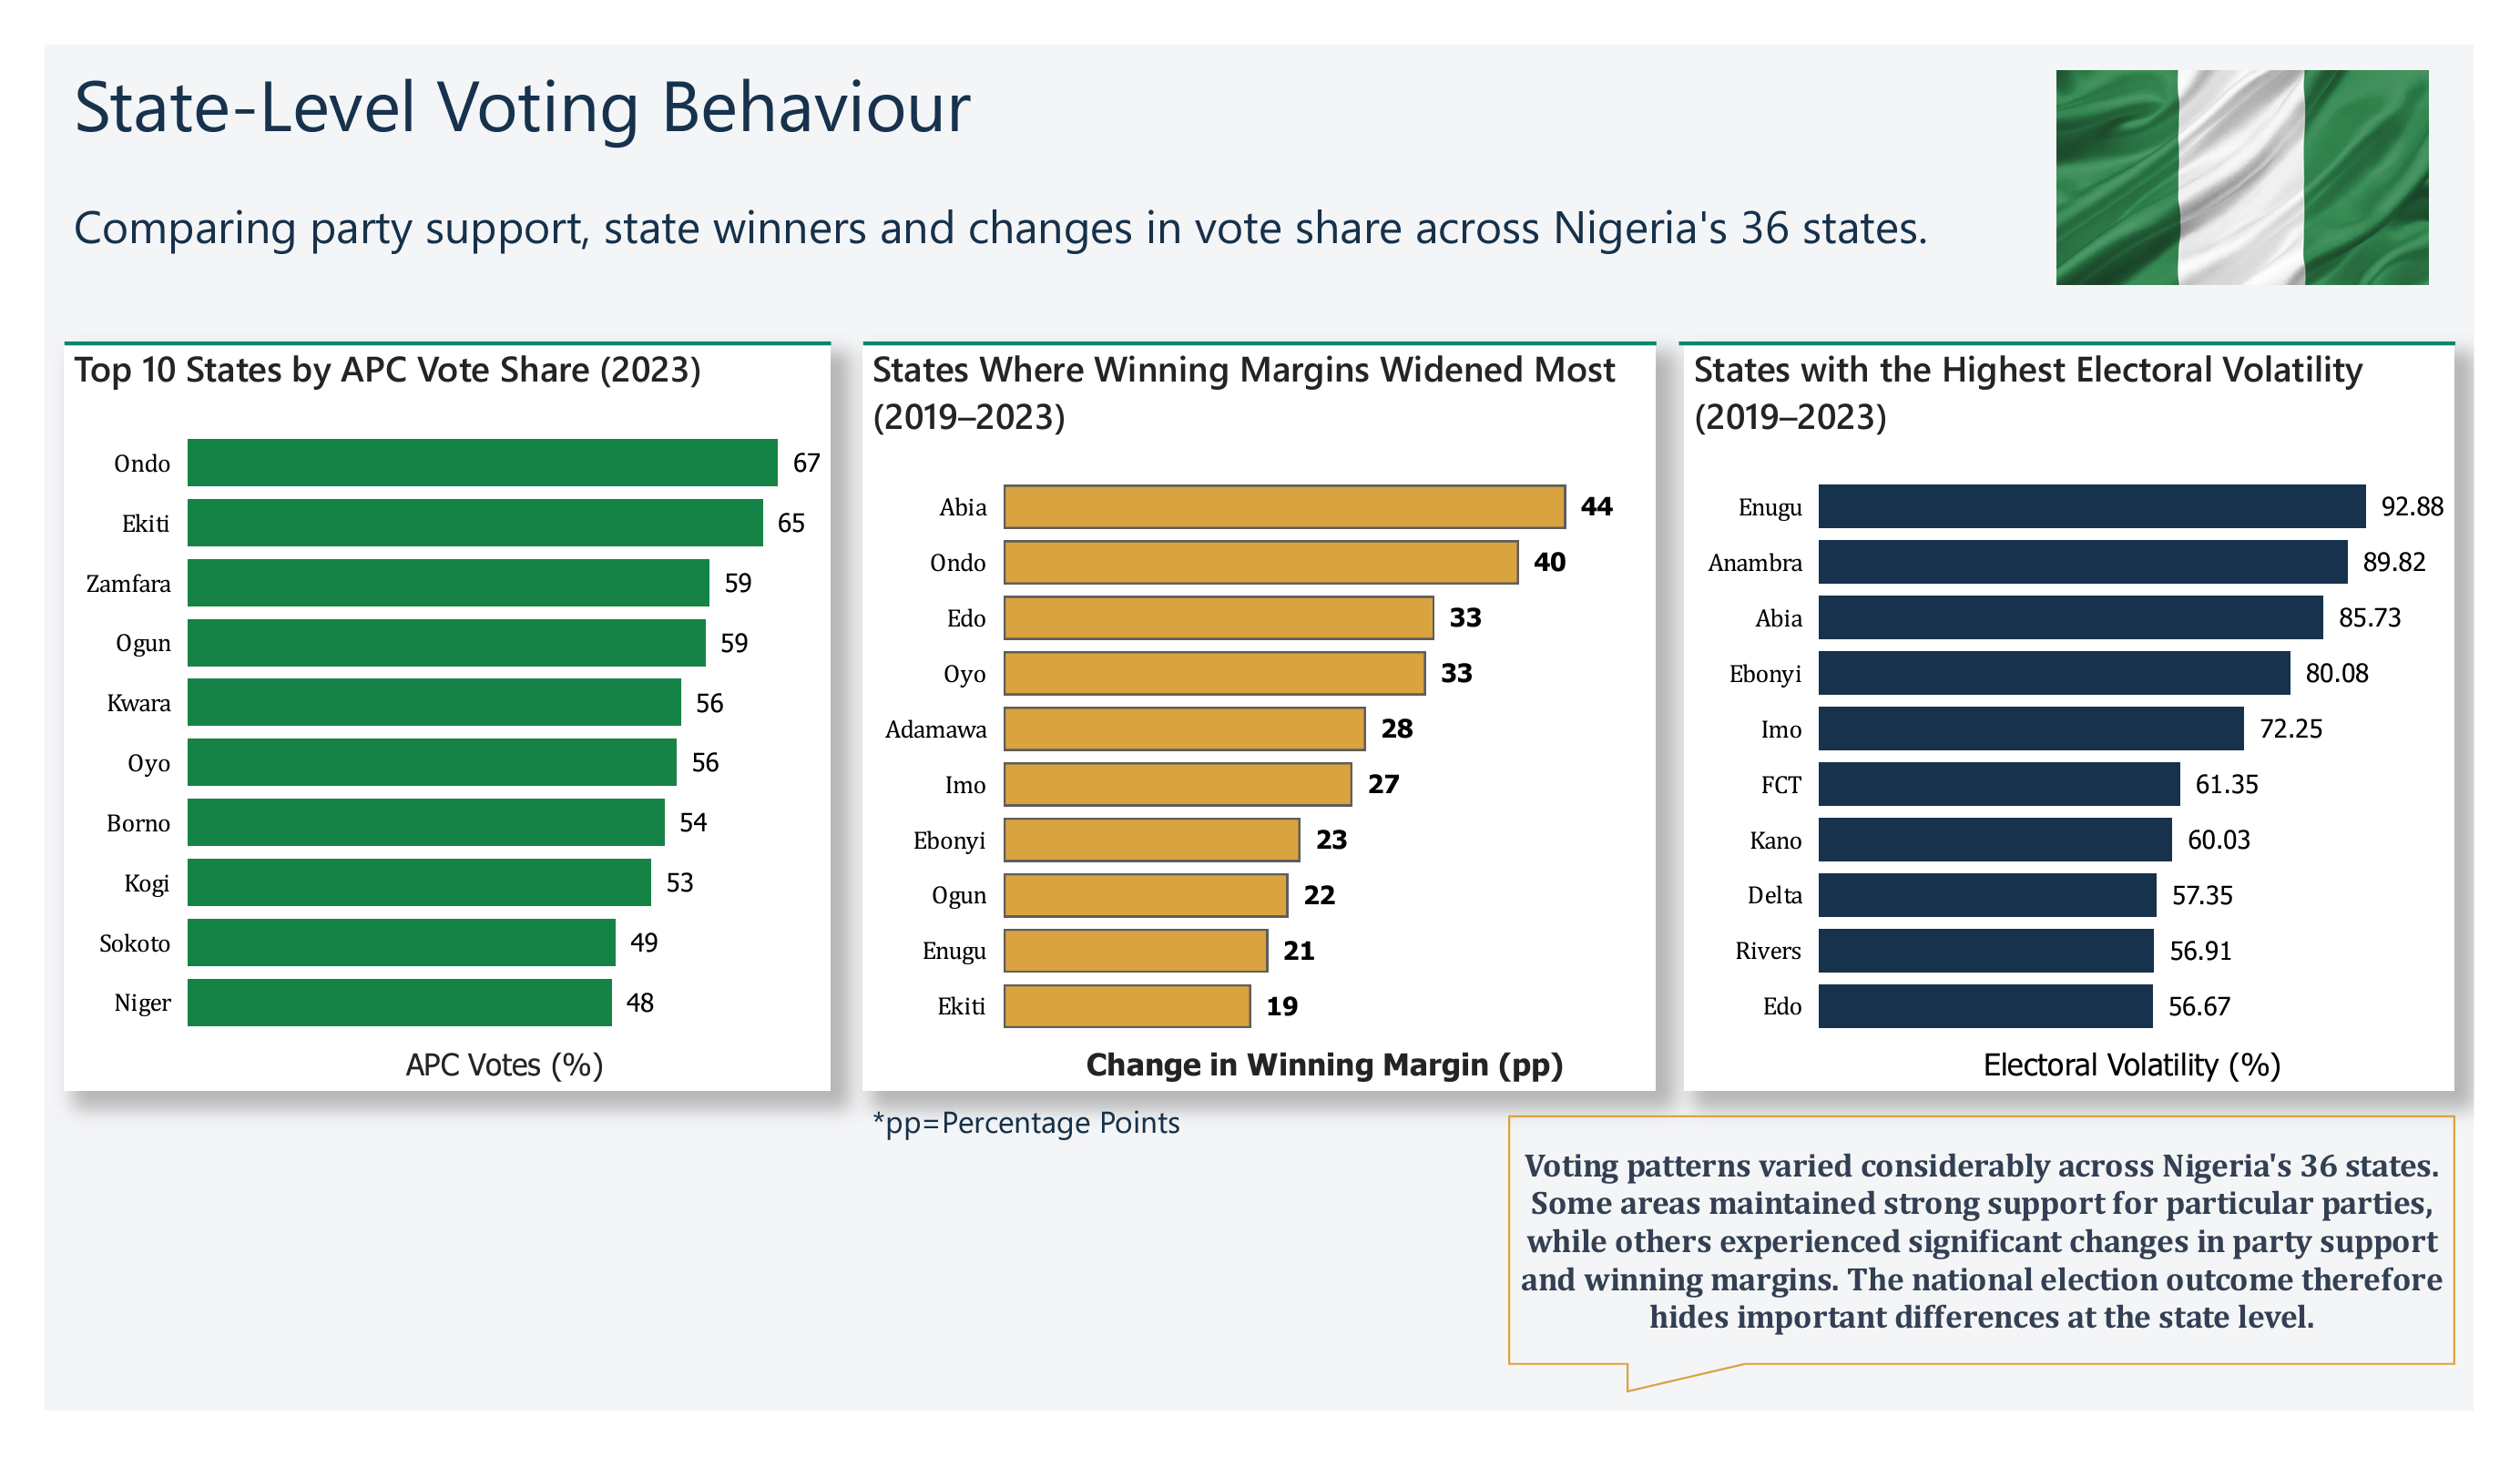

What the dashboard file says about the page in this screenshot:
{"tool":"powerbi","page":{"name":"STATE-LEVEL VOTING BEHAVIOUR","canvas":[1280,720],"ordinal":2},"visuals":[{"type":"textbox","box":[10.3,0,487.8,73.5],"z":0},{"type":"textbox","box":[10.3,73.5,1000.7,52.9],"z":1000},{"type":"image","box":[1046.2,13.2,223.3,113.1],"z":2000},{"type":"clusteredBarChart","title":"Top 10 States by APC Vote Share (2023)","fields":{"Category":["dim_state.state"],"Y":["Sum(fact_state_election.apc_vote_share)"]},"box":[10.3,157.2,404.1,393.8],"z":3000},{"type":"shape","box":[10.3,141.1,404.1,32.3],"z":4000},{"type":"clusteredBarChart","title":"States Where Winning Margins Widened Most (2019–2023)","fields":{"Category":["dim_state.state"],"Y":["Avg(fact_state_election.margin_change_pp)"]},"box":[430.5,157.2,418.8,393.8],"z":5000},{"type":"shape","box":[430.5,141.1,418.8,32.3],"z":6000},{"type":"clusteredBarChart","title":"States with the Highest Electoral Volatility (2019–2023)","fields":{"Category":["fact_volatility.state"],"Y":["Sum(fact_volatility.electoral_volatility)"]},"box":[864,157.2,405.6,393.8],"z":7000},{"type":"shape","box":[861.1,141.1,408.5,32.3],"z":8000},{"type":"shape","box":[771.4,564.2,498.1,145.5],"z":9000},{"type":"textbox","box":[430.5,551,173.4,33.8],"z":10000}]}

Visuals, with their boxes on the page's 1280x720 design canvas (x1, y1, x2, y2). These are canvas units, not pixel positions in the 2520x1457 screenshot, which may show the page scaled, cropped or inside an application window:
textbox: <region>10, 0, 498, 74</region>
textbox: <region>10, 74, 1011, 126</region>
image: <region>1046, 13, 1270, 126</region>
"Top 10 States by APC Vote Share (2023)" clusteredBarChart: <region>10, 157, 414, 551</region>
shape: <region>10, 141, 414, 173</region>
"States Where Winning Margins Widened Most (2019–2023)" clusteredBarChart: <region>430, 157, 849, 551</region>
shape: <region>430, 141, 849, 173</region>
"States with the Highest Electoral Volatility (2019–2023)" clusteredBarChart: <region>864, 157, 1270, 551</region>
shape: <region>861, 141, 1270, 173</region>
shape: <region>771, 564, 1270, 710</region>
textbox: <region>430, 551, 604, 585</region>
